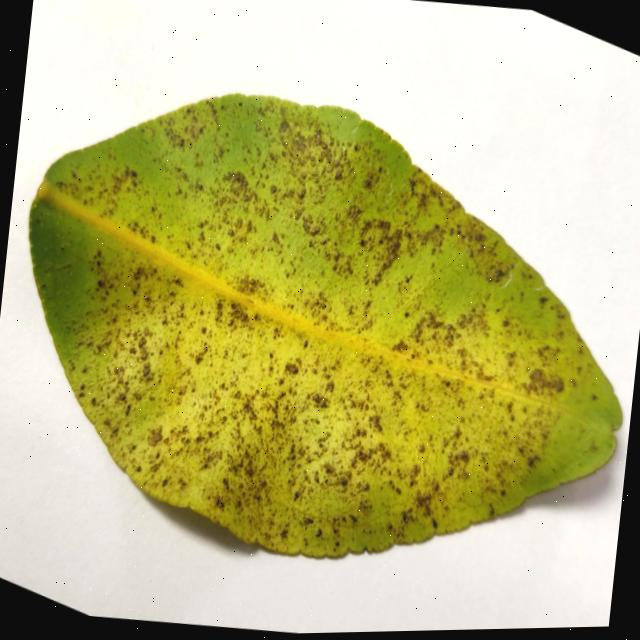melanose: (27, 93, 620, 556)
